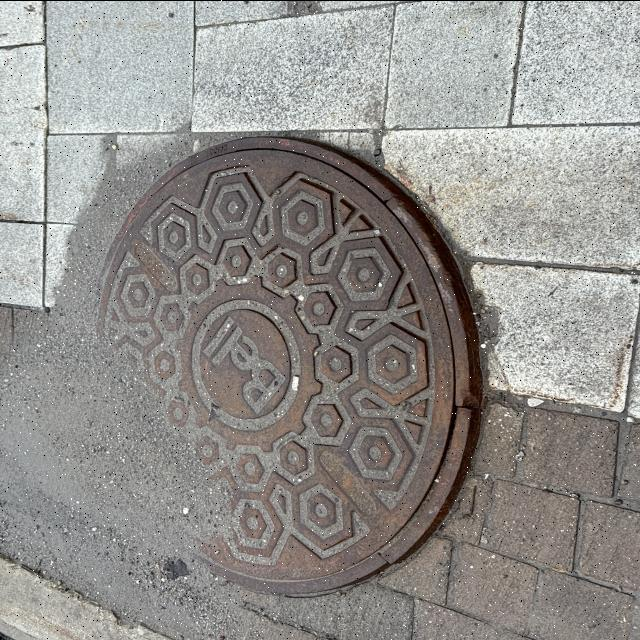Manhole: (90, 131, 478, 588)
